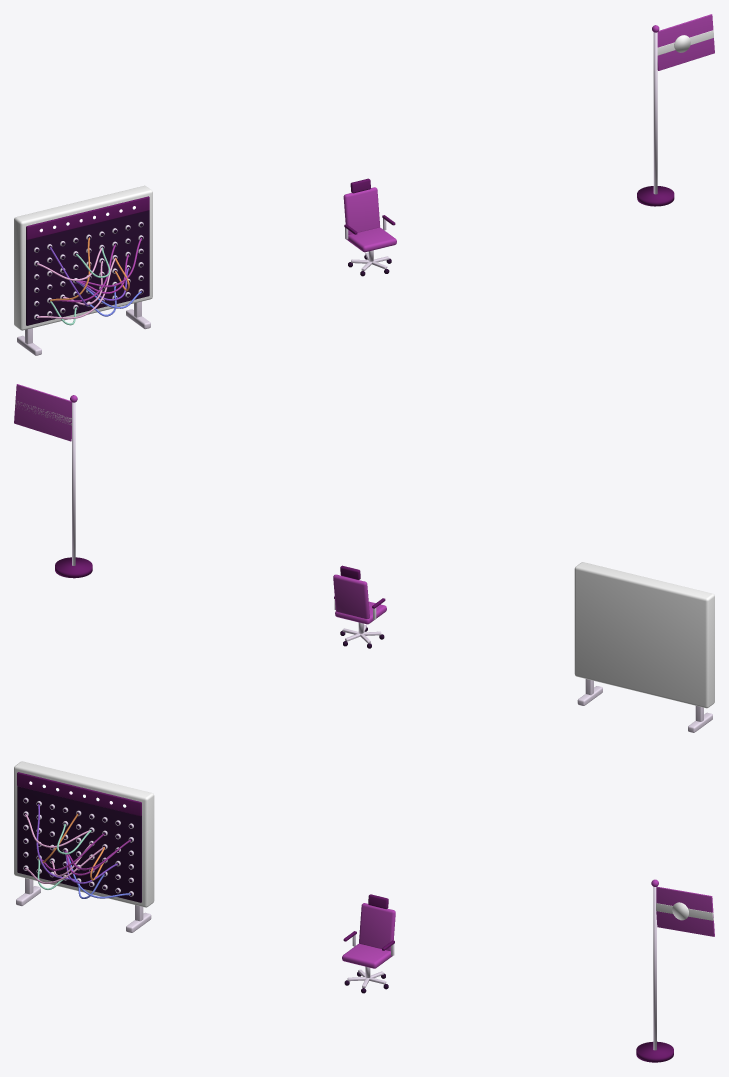
Rendered from mgmt_a.glb.
3 renders of one model, top to bottom at view 1: azimuth 30°, elevation 25°; view 2: azimuth 150°, elevation 25°; view 3: azimuth 330°, elevation 25°, orthographic.
Parts seen in each view (by area): view 1: Face, Cabinet, Flag, Header, Back, Pole, Seat, FlagBase; view 2: Cabinet, Flag, Back, FlagBase, Pole; view 3: Face, Cabinet, Flag, Header, Back, Seat, FlagBase, Pole.
Part boxes in pixels (x1=…): Face: x1=26, y1=210, x2=149, y2=325; Cabinet: x1=14, y1=185, x2=152, y2=330; Flag: x1=657, y1=14, x2=714, y2=70; Header: x1=26, y1=196, x2=149, y2=239; Back: x1=343, y1=187, x2=379, y2=234; Pole: x1=653, y1=32, x2=657, y2=194; Seat: x1=347, y1=227, x2=396, y2=252; FlagBase: x1=637, y1=186, x2=674, y2=206; Cabinet: x1=574, y1=562, x2=714, y2=708; Flag: x1=14, y1=384, x2=71, y2=441; Back: x1=333, y1=574, x2=369, y2=618; FlagBase: x1=55, y1=557, x2=92, y2=578; Pole: x1=72, y1=402, x2=75, y2=565; Face: x1=17, y1=786, x2=141, y2=902; Cabinet: x1=14, y1=761, x2=154, y2=907; Flag: x1=656, y1=886, x2=714, y2=936; Header: x1=17, y1=772, x2=141, y2=816; Back: x1=359, y1=903, x2=395, y2=951; Seat: x1=342, y1=943, x2=392, y2=968; FlagBase: x1=636, y1=1041, x2=673, y2=1062; Pole: x1=653, y1=887, x2=656, y2=1050.
Size of the model in its own units: 14.65 by 3.49 by 1.11.
